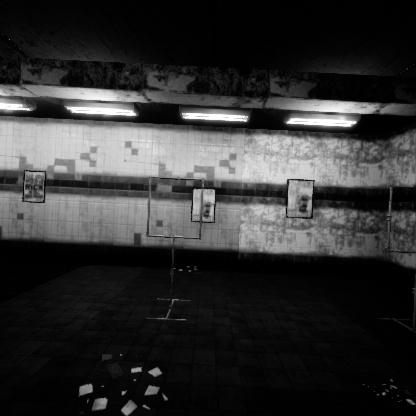gate: (146, 175, 209, 240), (387, 159, 416, 231)
